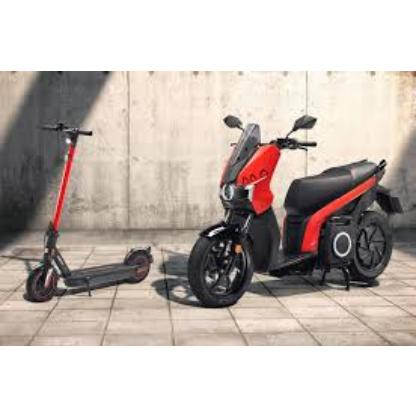bike: (187, 114, 403, 309), (24, 120, 154, 304)
